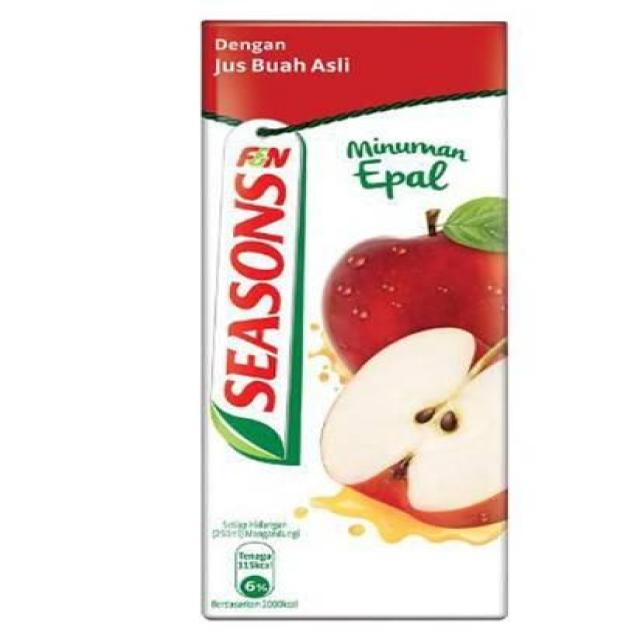drink carton: (197, 15, 509, 618)
